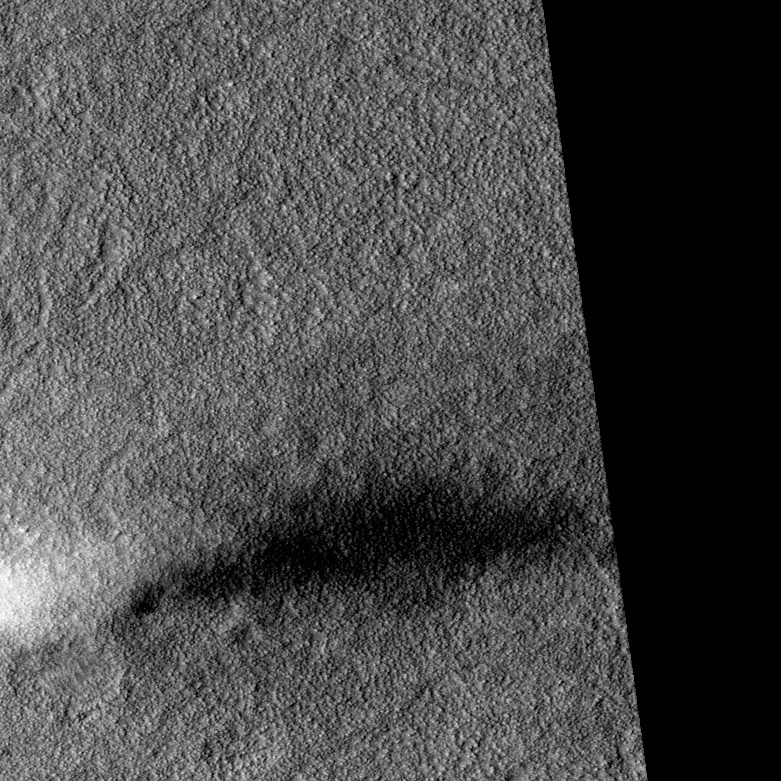dust_devil: (1, 458, 603, 669)
